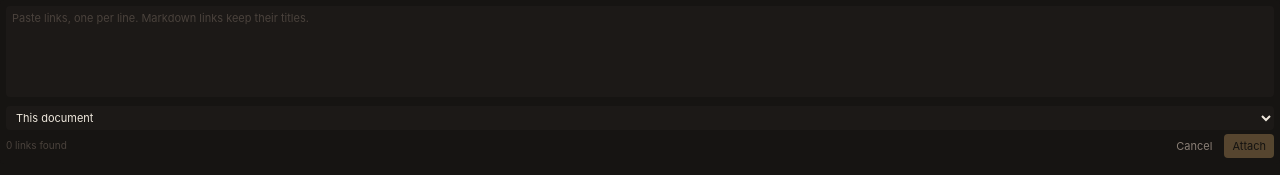
Test case: LinkPasteField › should say nothing about derived titles when the writer named them all
Type "[The piece](https://example.com/a)" into the text box named "Links to attach" at (640, 51), box [6,6,1274,96]
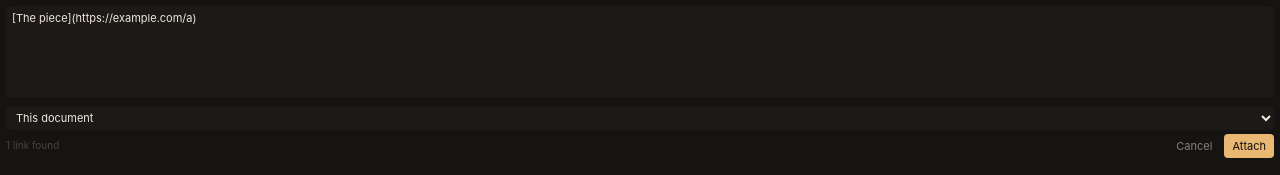
Expected: the text "1 link found" is shown, [6,138,59,153]
